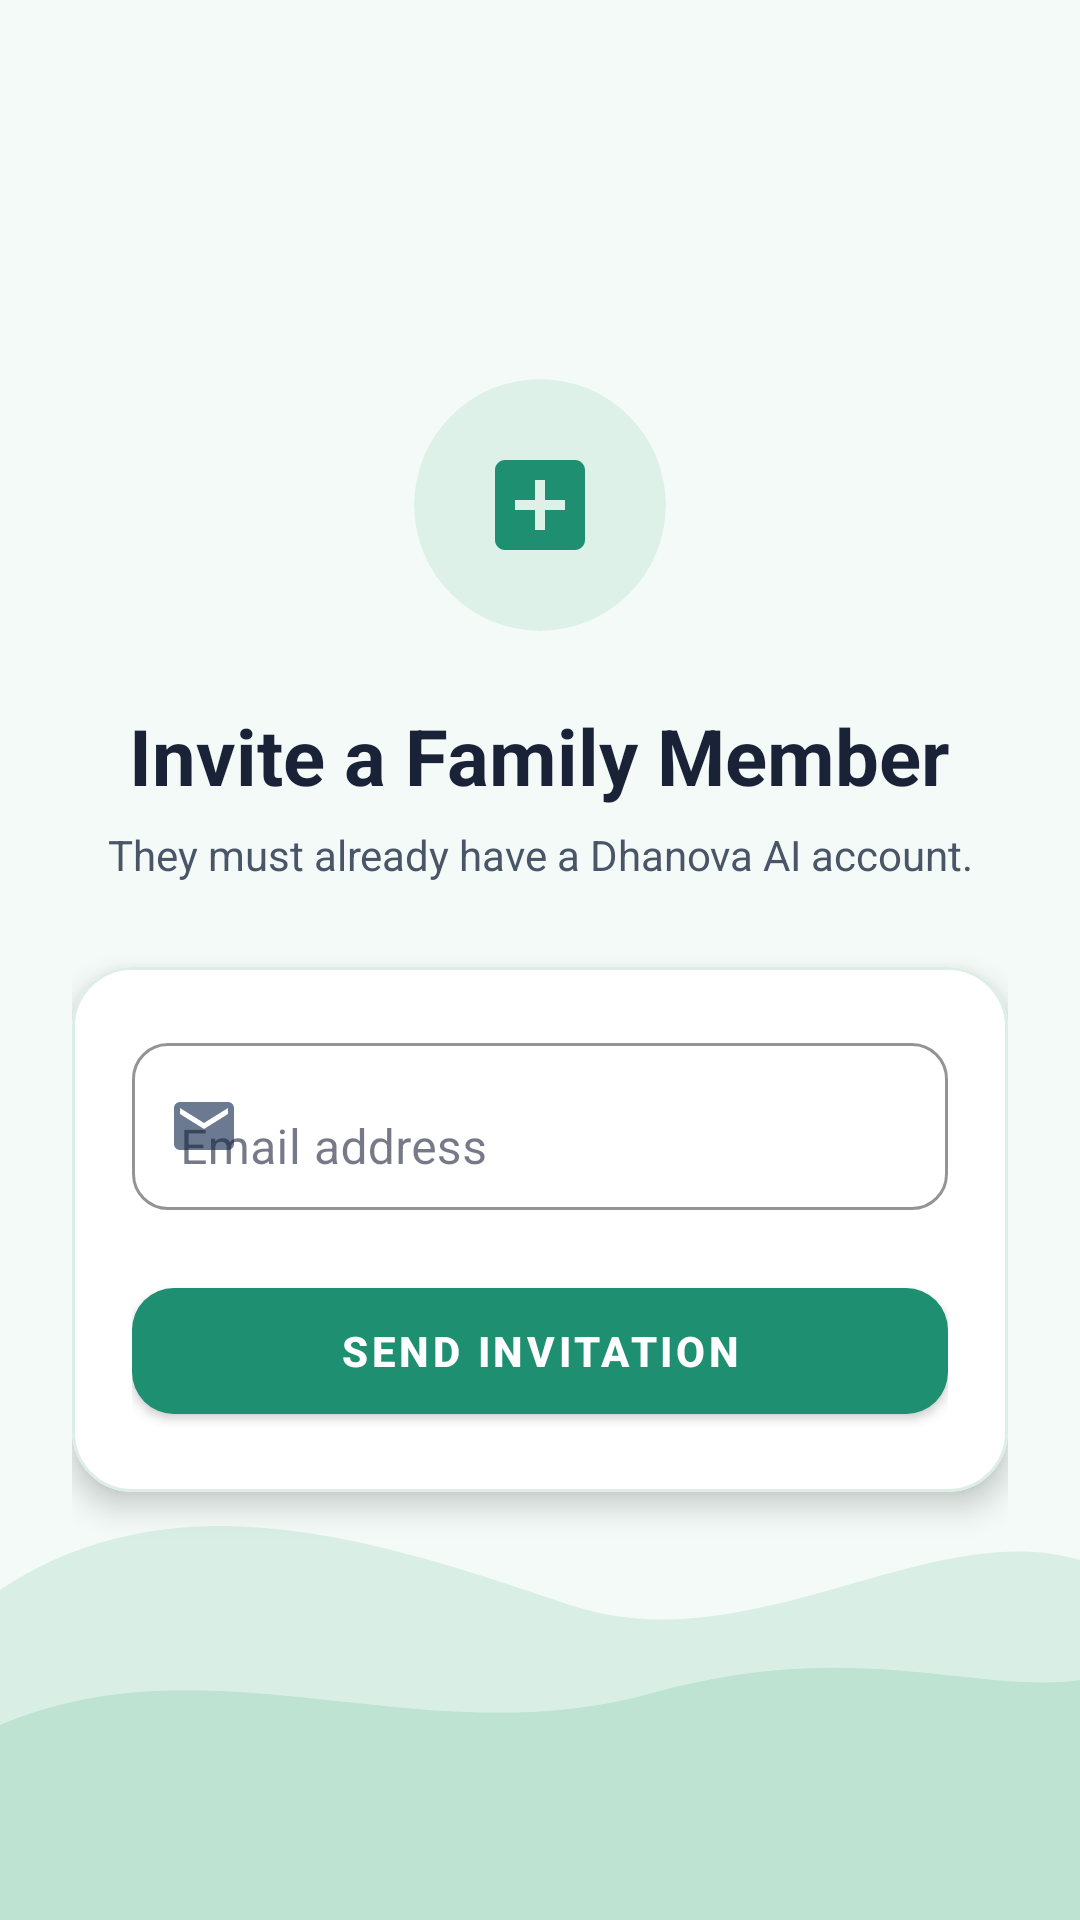

Screen size 1080 × 1920. Icon name, then its box in pixels as bbox=[x1, y1, x2, y2]:
add family: bbox=[495, 460, 585, 550]
